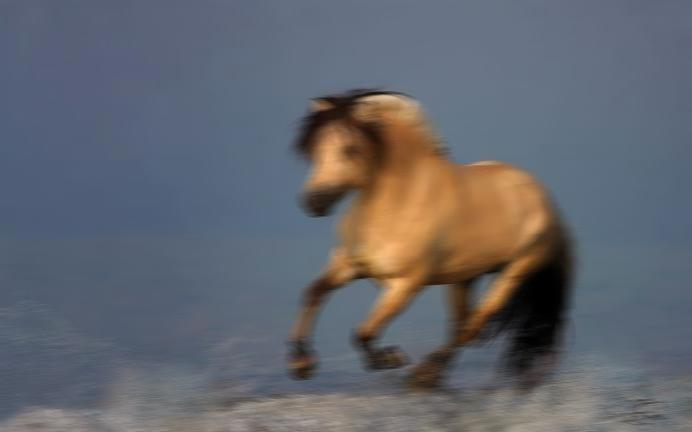horse: (286, 86, 578, 397)
